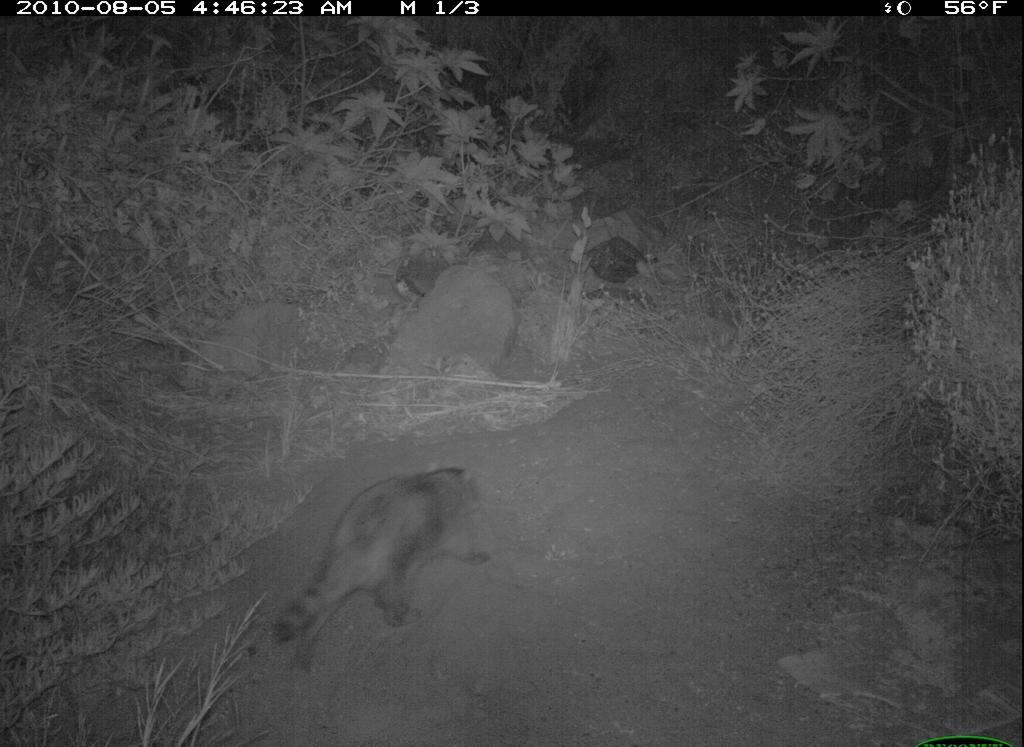raccoon: (272, 447, 488, 658)
